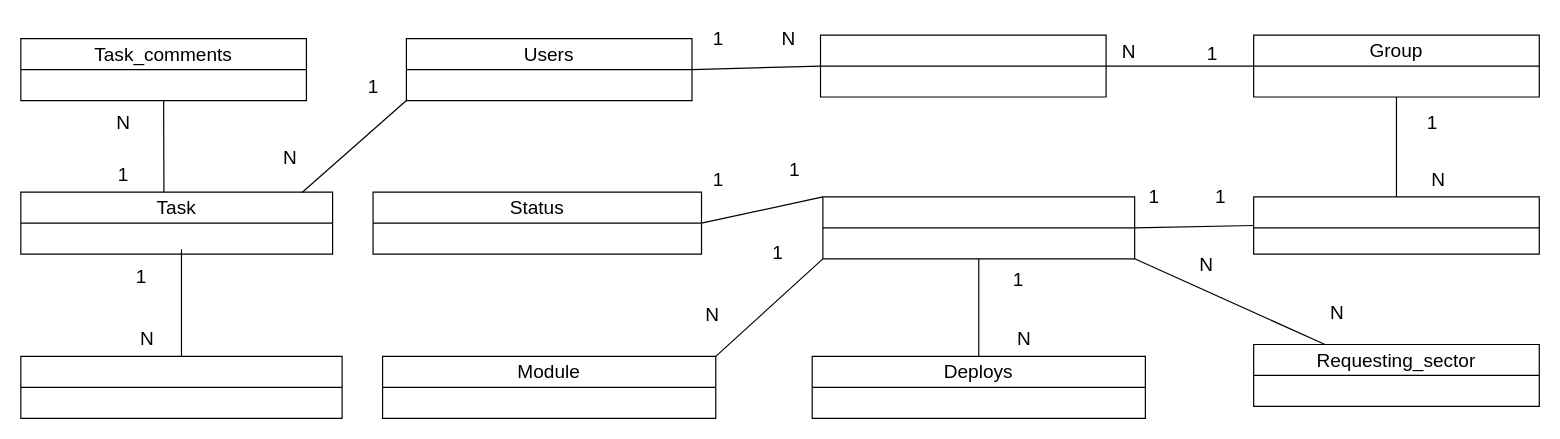
Some shapes in this 1560 by 439 pixel diagram are drawn without their labels. The centre of each missing label's shape, as x and y in pixels:
"Files" goes at [181,386].
"Group_name" goes at [962,65].
"Project" goes at [978,227].
"Project_group" goes at [1395,225].
